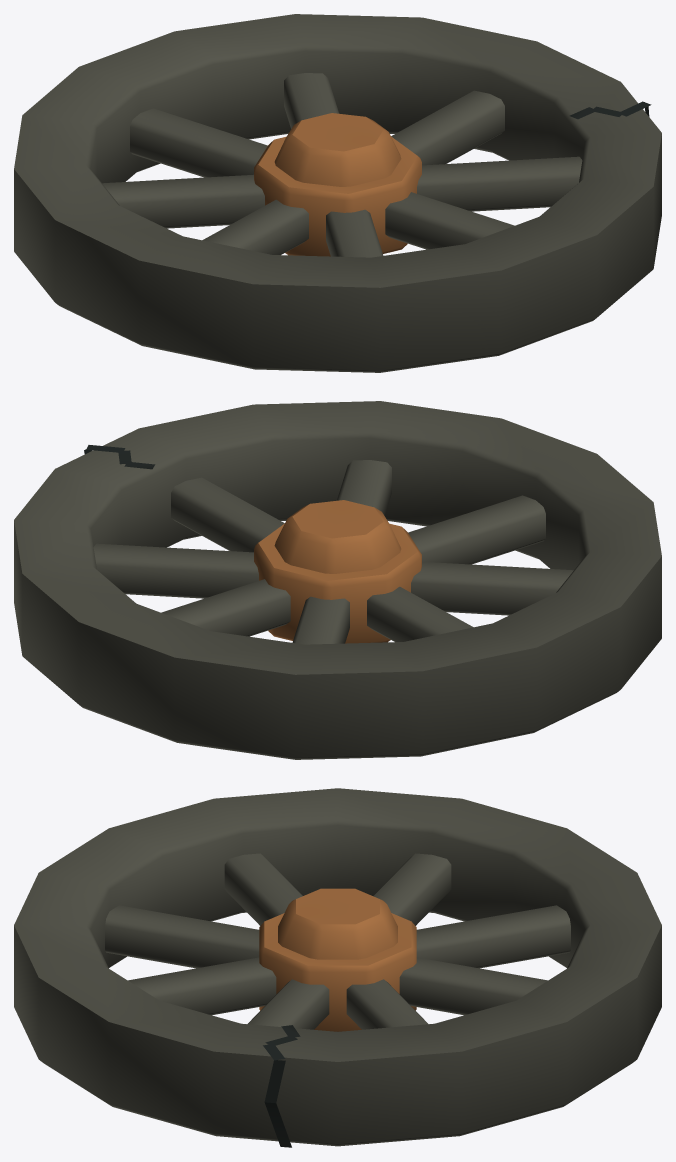
The model's file is valve_wheel_wheel.glb.
3 renders of one model, top to bottom at view 1: azimuth 30°, elevation 25°; view 2: azimuth 150°, elevation 25°; view 3: azimuth 270°, elevation 25°, orthographic.
Parts seen in each view (by area): view 1: Wheel; view 2: Wheel; view 3: Wheel.
Boxes of the visible parts, x1,y1,x2,y2 form: Wheel: (14,14,661,372); Wheel: (14,401,661,759); Wheel: (14,788,661,1147).
Size of the model in its own units: 3.8 by 0.68 by 3.8.
